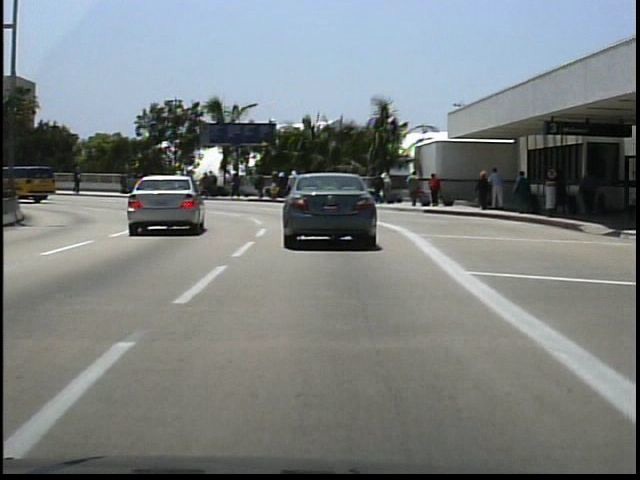person: (581, 162, 605, 219), (486, 164, 508, 217), (513, 166, 536, 216), (554, 165, 573, 217), (477, 167, 496, 212), (406, 170, 425, 210), (428, 168, 446, 208), (72, 164, 88, 198), (374, 171, 388, 207), (138, 168, 156, 195), (118, 171, 134, 196)
